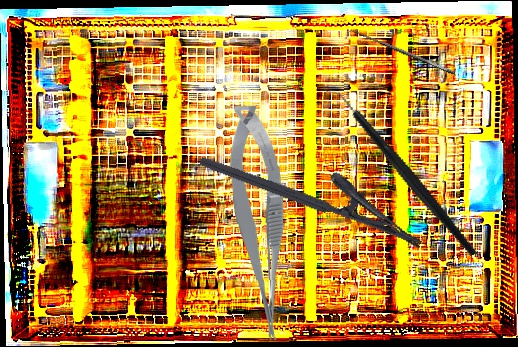Chopper: (321, 61, 479, 285)
Hook Surgical: (343, 25, 456, 83)
Micro Scissor: (227, 105, 288, 341)
Needle Holder: (198, 124, 435, 251)
